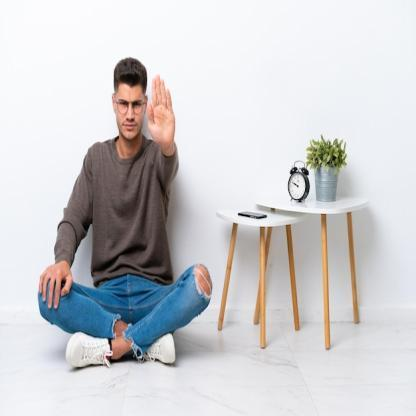stop: (144, 74, 177, 150)
